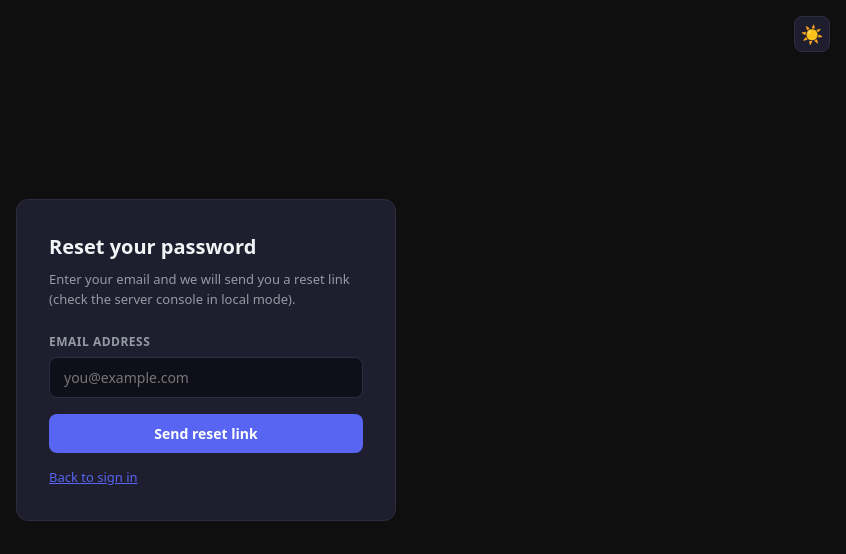
shows validation error when submitted without email
Click the button with test id "fp-submit": point(206, 434) [49, 414, 363, 453]
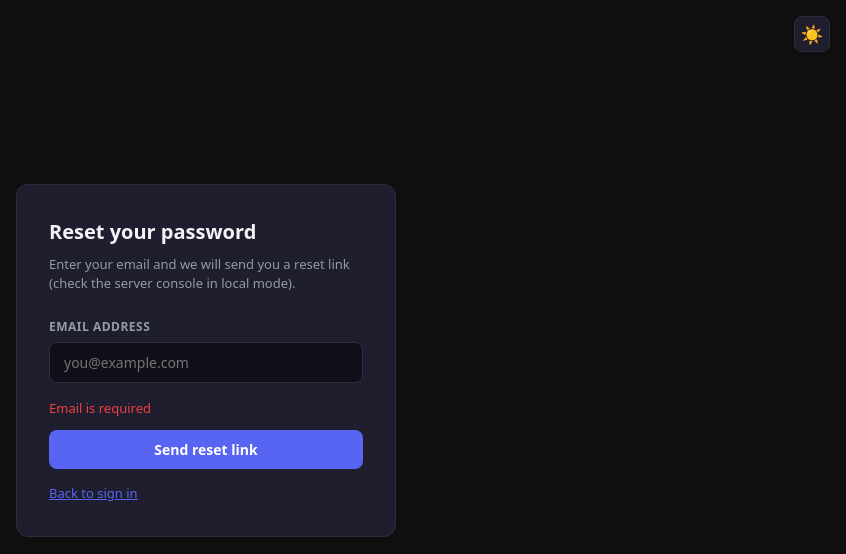
Check: the text "Email is required" is shown, box [49, 398, 151, 416]
